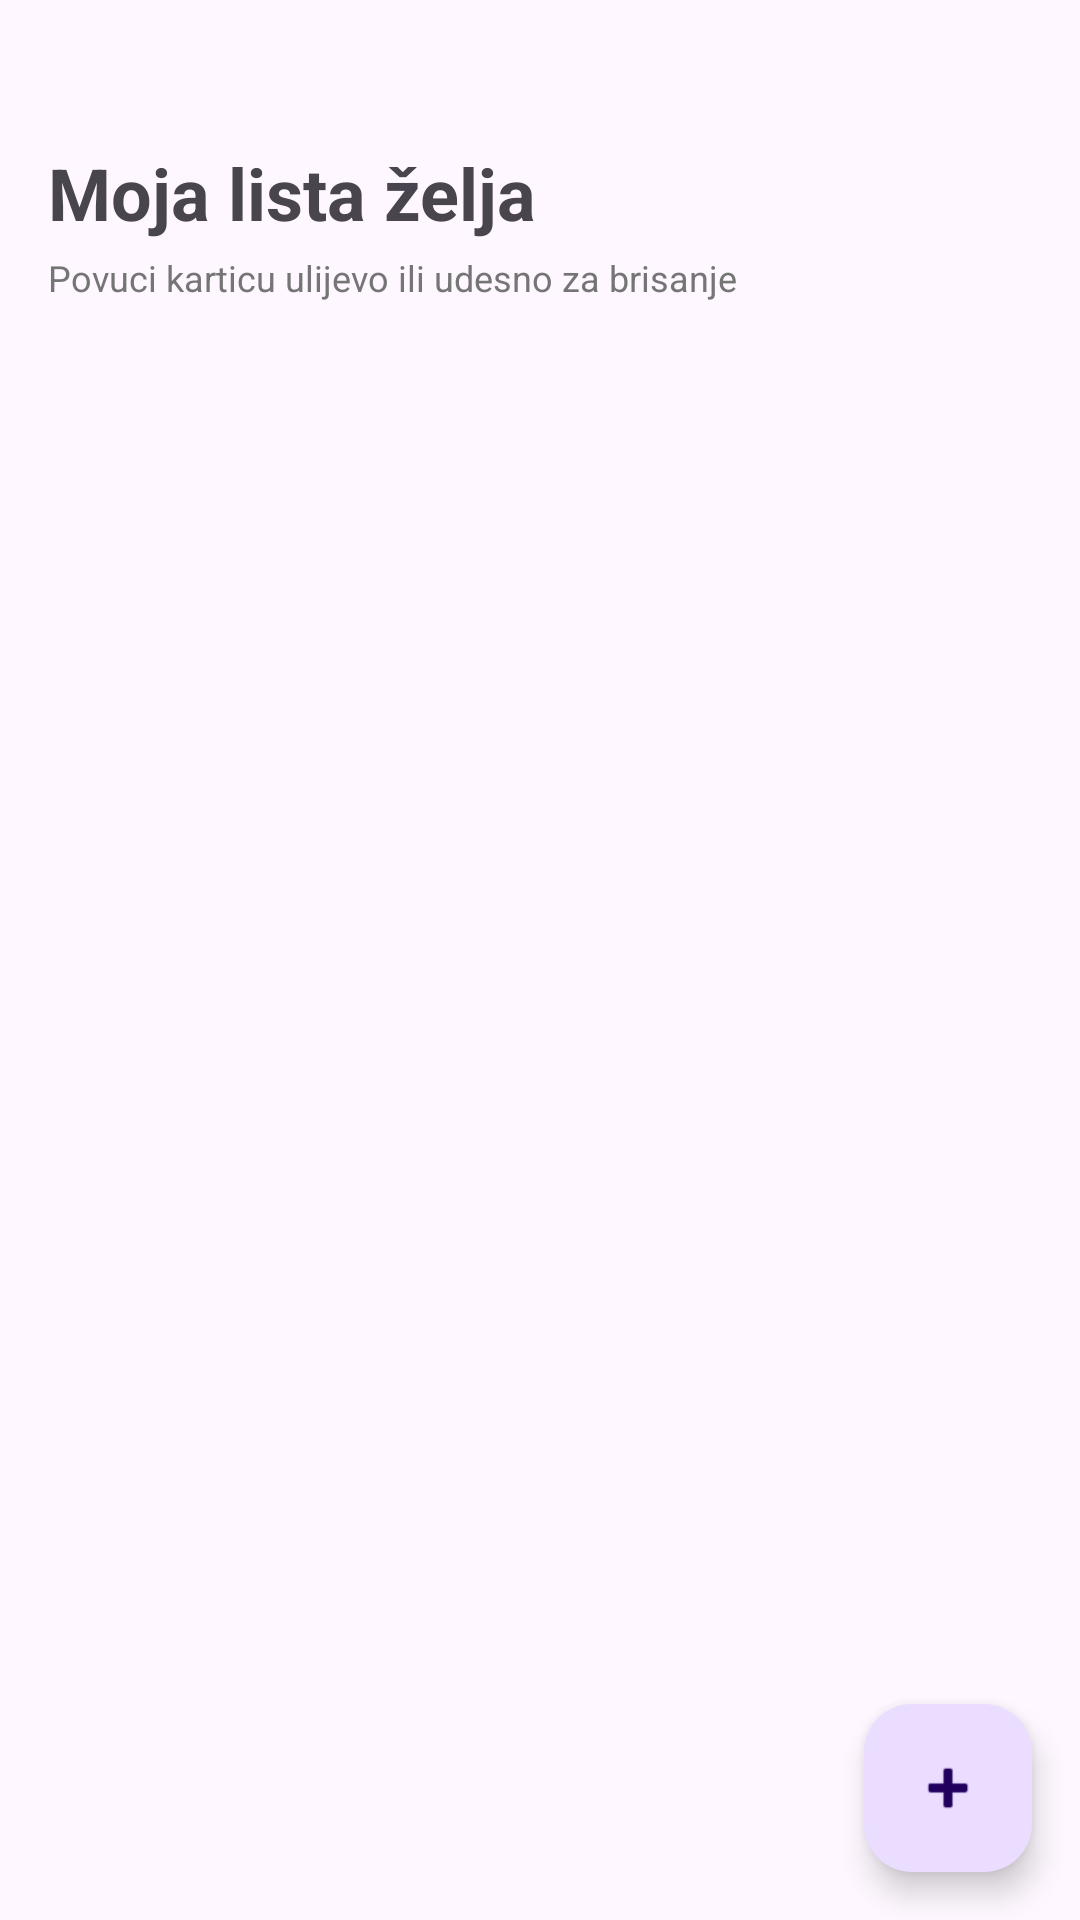

Point at icon controls on the screen. Image size 1080 x 1920, points as (x,y).
Dodaj destinaciju: (948,1788)
